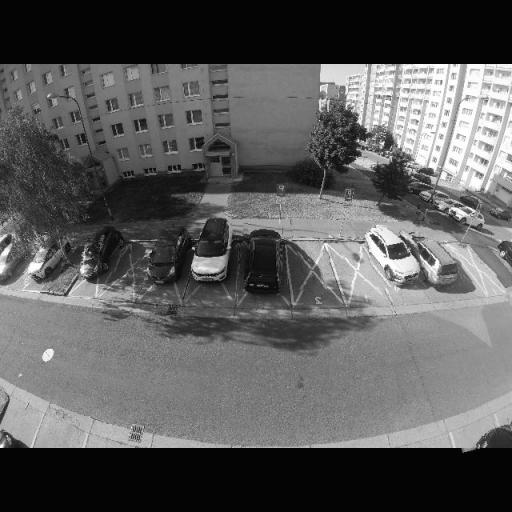busy: (238, 224, 292, 296), (366, 222, 422, 288), (186, 218, 235, 282), (70, 228, 124, 278), (413, 236, 462, 288), (142, 229, 184, 285), (24, 240, 61, 286), (458, 422, 512, 450), (0, 237, 20, 284)
free: (294, 250, 330, 292), (340, 252, 367, 288), (116, 253, 143, 285), (468, 255, 497, 281)
